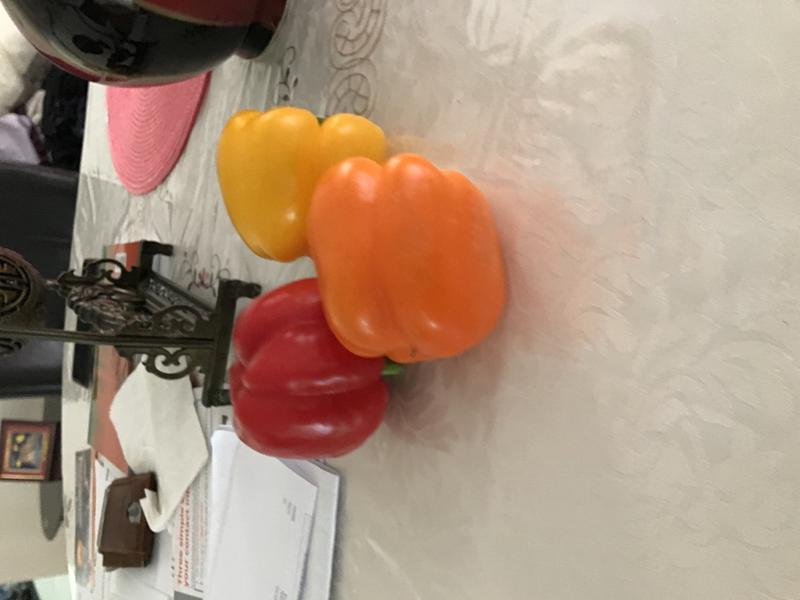orange_pepper: (305, 154, 516, 370)
red_pepper: (223, 271, 398, 465)
yellow_pepper: (212, 103, 397, 266)
